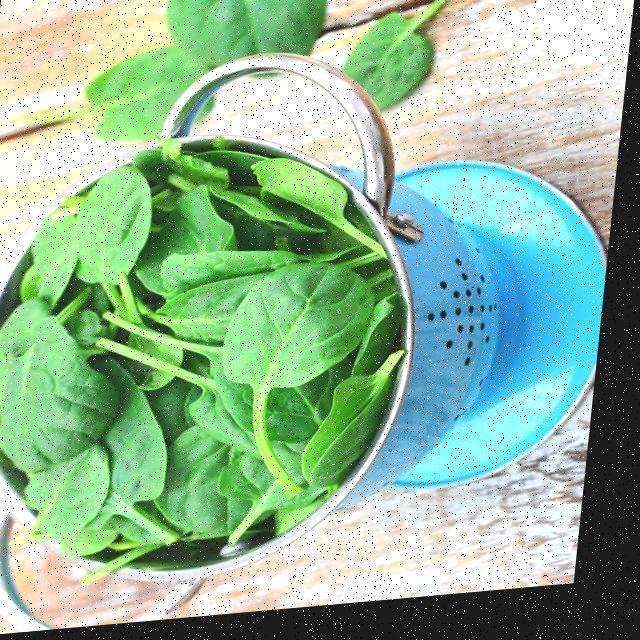Spinach: (0, 132, 424, 594), (18, 0, 464, 152)
